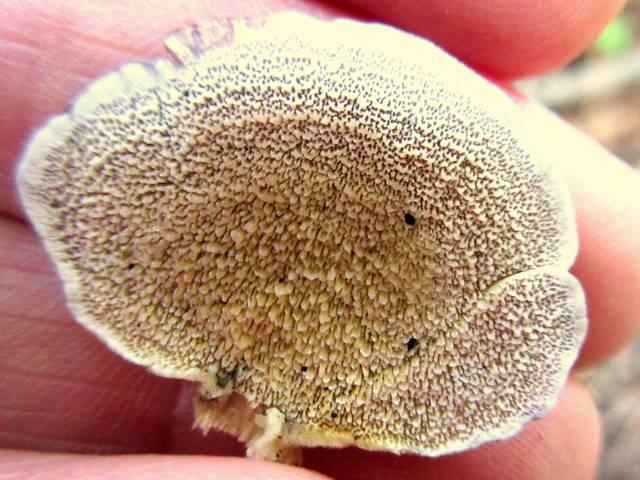Non-edible Mushroom: (14, 9, 590, 464)
